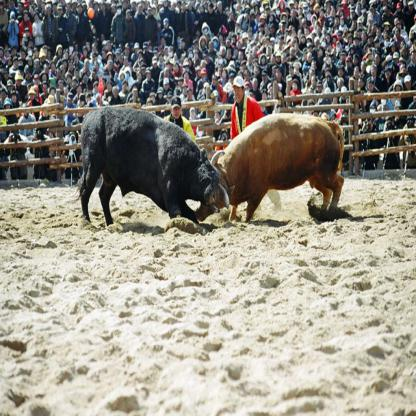face: (234, 86, 244, 103), (173, 105, 181, 119), (409, 70, 416, 83), (366, 120, 373, 132), (13, 129, 19, 140), (343, 112, 349, 123), (378, 104, 384, 115), (381, 95, 387, 106), (1, 92, 7, 102), (35, 75, 41, 85), (205, 83, 210, 95), (222, 133, 228, 143), (408, 119, 414, 129), (114, 88, 119, 99), (326, 71, 331, 82), (375, 55, 380, 66), (183, 87, 189, 96), (338, 81, 344, 90), (406, 81, 412, 90), (65, 50, 70, 60), (75, 56, 80, 66), (123, 83, 128, 93), (261, 103, 266, 113), (296, 106, 301, 116), (49, 133, 55, 141), (30, 40, 35, 49), (28, 48, 33, 57), (59, 83, 64, 92), (42, 3, 47, 12), (92, 43, 97, 52), (78, 108, 83, 117), (73, 80, 78, 89), (108, 83, 113, 92), (188, 91, 193, 100), (165, 70, 170, 79), (185, 73, 190, 82), (218, 3, 223, 12), (232, 37, 237, 46), (227, 109, 232, 118), (290, 69, 295, 78), (293, 83, 298, 92), (279, 38, 284, 47), (294, 38, 299, 47), (299, 16, 304, 25), (308, 40, 313, 49), (334, 97, 339, 106), (401, 74, 406, 83), (380, 124, 385, 133), (403, 49, 408, 58), (48, 101, 52, 112), (213, 76, 217, 87), (299, 30, 303, 41), (355, 68, 359, 79), (164, 84, 170, 91), (38, 1, 43, 9), (22, 52, 27, 60), (35, 131, 40, 139), (12, 95, 17, 103), (9, 84, 14, 92), (31, 93, 36, 101), (44, 85, 48, 95), (67, 77, 72, 85), (61, 1, 66, 9), (86, 62, 90, 72), (84, 74, 89, 82), (192, 111, 197, 119), (151, 97, 156, 105), (125, 57, 129, 67), (175, 65, 180, 73), (171, 3, 176, 11), (204, 56, 209, 64), (218, 83, 223, 91), (257, 44, 262, 52), (228, 50, 232, 60), (263, 74, 268, 82), (277, 71, 282, 79), (263, 94, 268, 102), (314, 113, 319, 121), (312, 77, 316, 87), (308, 55, 313, 63), (305, 29, 310, 37), (308, 12, 312, 22), (339, 70, 344, 78), (371, 106, 376, 114), (369, 84, 374, 92), (362, 64, 367, 72), (369, 54, 374, 62), (311, 3, 315, 13), (340, 12, 344, 22), (396, 85, 401, 93), (386, 71, 391, 79), (349, 5, 353, 15), (409, 5, 414, 13), (7, 104, 11, 113), (24, 106, 28, 115), (27, 72, 31, 81), (34, 89, 38, 98), (44, 49, 48, 58), (46, 66, 50, 75), (58, 71, 62, 80), (93, 55, 97, 64), (95, 64, 99, 73), (148, 72, 152, 81), (223, 70, 227, 79), (214, 39, 218, 48), (246, 88, 250, 97), (254, 81, 258, 90), (272, 56, 276, 65), (359, 79, 363, 88), (336, 18, 340, 27), (385, 50, 389, 59), (396, 29, 400, 38), (386, 39, 390, 48), (5, 72, 10, 79), (70, 46, 75, 53), (78, 87, 83, 94), (101, 80, 106, 87), (148, 103, 153, 110), (135, 68, 140, 75), (166, 62, 171, 69), (202, 62, 207, 69), (298, 9, 303, 16), (361, 91, 366, 98), (401, 65, 406, 72), (25, 14, 29, 22), (7, 51, 11, 59), (35, 51, 39, 59), (15, 60, 19, 68), (18, 79, 22, 87), (36, 62, 40, 70), (59, 48, 63, 56), (52, 64, 56, 72), (51, 90, 55, 98), (68, 98, 72, 106), (65, 89, 69, 97), (70, 63, 74, 71), (47, 7, 51, 15), (68, 5, 72, 13), (79, 6, 83, 14), (76, 71, 80, 79), (124, 2, 128, 10), (127, 13, 131, 21), (139, 5, 143, 13), (103, 52, 107, 60), (109, 63, 113, 71), (81, 100, 85, 108), (97, 97, 101, 105), (96, 86, 100, 94), (44, 109, 48, 117), (139, 74, 143, 82), (143, 68, 147, 76), (132, 54, 136, 62), (126, 50, 130, 58), (118, 54, 122, 62), (160, 55, 164, 63), (182, 41, 186, 49), (195, 43, 199, 51), (209, 6, 213, 14), (202, 40, 206, 48), (210, 45, 214, 53), (267, 28, 271, 36), (260, 33, 264, 41), (256, 33, 260, 41), (235, 49, 239, 57), (240, 53, 244, 61), (246, 73, 250, 81), (220, 87, 224, 95), (325, 117, 329, 125), (304, 101, 308, 109), (310, 71, 314, 79), (328, 58, 332, 66), (291, 48, 295, 56), (283, 16, 287, 24), (277, 36, 281, 44), (292, 40, 296, 48), (303, 21, 307, 29), (309, 45, 313, 53), (372, 68, 376, 76), (354, 57, 358, 65), (347, 60, 351, 68), (319, 49, 323, 57), (333, 49, 337, 57), (339, 33, 343, 41), (327, 36, 331, 44), (323, 40, 327, 48), (324, 29, 328, 37), (349, 37, 353, 45), (395, 57, 399, 65), (377, 30, 381, 38), (385, 32, 389, 40), (391, 38, 395, 46), (219, 66, 223, 74), (1, 5, 4, 15), (179, 82, 184, 88), (255, 68, 260, 74), (309, 90, 314, 96), (342, 55, 347, 61), (369, 37, 374, 43), (12, 17, 16, 24), (9, 60, 13, 67), (43, 76, 47, 83), (64, 61, 68, 68), (59, 8, 63, 15), (107, 4, 111, 11), (118, 8, 122, 15), (101, 35, 105, 42), (93, 73, 97, 80), (169, 97, 173, 104), (145, 47, 149, 54), (195, 54, 199, 61), (195, 60, 199, 67), (202, 73, 206, 80), (238, 1, 242, 8), (254, 60, 258, 67), (262, 58, 266, 65), (293, 12, 297, 19), (295, 2, 299, 9), (318, 28, 322, 35), (332, 9, 336, 16), (334, 25, 338, 32), (401, 42, 405, 49), (358, 32, 362, 39), (362, 32, 366, 39), (357, 5, 361, 12), (353, 24, 357, 31), (247, 14, 251, 21), (338, 122, 342, 129), (19, 5, 22, 14), (1, 49, 4, 58), (84, 50, 87, 59), (162, 38, 165, 47), (183, 3, 186, 12), (313, 18, 316, 27), (35, 15, 39, 21), (26, 31, 30, 37), (6, 44, 9, 52), (13, 49, 17, 55), (29, 60, 33, 66), (62, 68, 65, 76), (74, 3, 78, 9), (70, 54, 74, 60), (87, 45, 90, 53), (112, 7, 116, 13), (133, 3, 136, 11), (154, 2, 158, 8), (108, 43, 111, 51), (78, 136, 82, 142), (159, 93, 163, 99), (149, 45, 153, 51), (171, 63, 174, 71), (178, 37, 181, 45), (190, 51, 193, 59), (185, 66, 189, 72), (165, 23, 169, 29), (165, 2, 169, 8), (197, 30, 201, 36), (204, 27, 208, 33), (198, 71, 202, 77), (215, 95, 218, 103), (227, 9, 230, 17), (244, 38, 248, 44), (260, 26, 264, 32), (231, 65, 234, 73), (249, 58, 253, 64), (258, 54, 262, 60), (231, 78, 235, 84), (250, 94, 254, 100), (277, 56, 281, 62), (268, 57, 271, 65), (283, 56, 286, 64), (216, 113, 220, 119), (318, 86, 322, 92), (310, 103, 314, 109), (296, 65, 300, 71), (306, 73, 309, 81), (305, 54, 308, 62), (287, 49, 291, 55), (269, 48, 272, 56), (270, 17, 274, 23), (277, 8, 280, 16), (290, 4, 294, 10), (304, 7, 308, 13), (302, 37, 306, 43), (313, 35, 316, 43), (316, 9, 320, 15), (343, 4, 347, 10), (344, 37, 348, 43), (400, 59, 403, 67), (392, 47, 396, 53), (373, 26, 377, 32), (386, 26, 390, 32), (398, 24, 402, 30), (395, 20, 399, 26), (387, 11, 391, 17), (392, 3, 396, 9), (351, 12, 355, 18), (362, 8, 366, 14), (413, 54, 416, 62), (11, 2, 14, 9), (49, 50, 52, 57), (54, 5, 57, 12), (128, 1, 131, 8), (149, 9, 152, 16), (153, 8, 156, 15), (155, 61, 158, 68), (189, 60, 192, 67), (178, 3, 181, 10), (201, 6, 204, 13), (205, 3, 208, 10), (207, 35, 210, 42), (267, 40, 270, 47), (313, 62, 316, 69), (281, 2, 284, 9), (283, 23, 286, 30), (286, 9, 289, 16), (295, 9, 298, 16), (296, 46, 299, 53), (321, 11, 324, 18), (328, 8, 331, 15), (342, 41, 345, 48), (346, 46, 349, 53), (383, 16, 386, 23), (26, 6, 30, 11), (91, 1, 95, 6), (103, 5, 107, 10), (271, 28, 275, 33), (384, 2, 388, 7), (362, 1, 366, 6), (5, 9, 8, 15), (42, 56, 45, 62), (84, 6, 87, 12), (76, 45, 79, 51), (90, 3, 93, 9), (100, 5, 103, 11), (93, 28, 96, 34), (116, 66, 119, 72), (127, 73, 130, 79), (142, 61, 145, 67), (140, 54, 143, 60), (112, 36, 115, 42), (132, 47, 135, 53), (155, 52, 158, 58), (166, 49, 169, 55), (164, 55, 167, 61), (175, 54, 178, 60), (182, 56, 185, 62), (159, 22, 162, 28), (160, 4, 163, 10), (189, 4, 192, 10), (186, 4, 189, 10), (193, 2, 196, 8), (197, 5, 200, 11), (222, 48, 225, 54), (220, 36, 223, 42), (222, 41, 225, 47), (231, 14, 234, 20), (256, 6, 259, 12), (252, 15, 255, 21), (258, 15, 261, 21), (262, 19, 265, 25), (250, 30, 253, 36), (223, 30, 226, 36), (227, 42, 230, 48), (265, 4, 268, 10), (238, 44, 241, 50), (243, 64, 246, 70), (274, 69, 277, 75), (288, 57, 291, 63), (291, 61, 294, 67), (282, 45, 285, 51), (272, 41, 275, 47), (290, 26, 293, 32), (293, 31, 296, 37), (305, 52, 308, 58), (332, 115, 335, 121), (348, 99, 351, 105), (329, 46, 332, 52), (334, 38, 337, 44), (317, 42, 320, 48), (321, 20, 324, 26), (327, 3, 330, 9), (342, 20, 345, 26), (338, 6, 341, 12), (376, 44, 379, 50), (367, 47, 370, 53), (355, 40, 358, 46), (371, 9, 374, 15), (197, 1, 201, 5), (34, 5, 37, 10), (95, 5, 98, 10), (122, 75, 125, 80), (93, 37, 96, 42), (237, 5, 240, 10), (238, 34, 241, 39), (236, 16, 239, 21), (229, 129, 232, 134), (287, 32, 290, 37), (337, 45, 340, 50), (317, 25, 320, 30), (347, 34, 350, 39), (351, 50, 354, 55), (398, 8, 401, 13), (379, 5, 382, 10), (359, 23, 362, 28), (88, 97, 91, 101), (105, 73, 108, 77), (170, 48, 173, 52), (352, 1, 355, 5)
